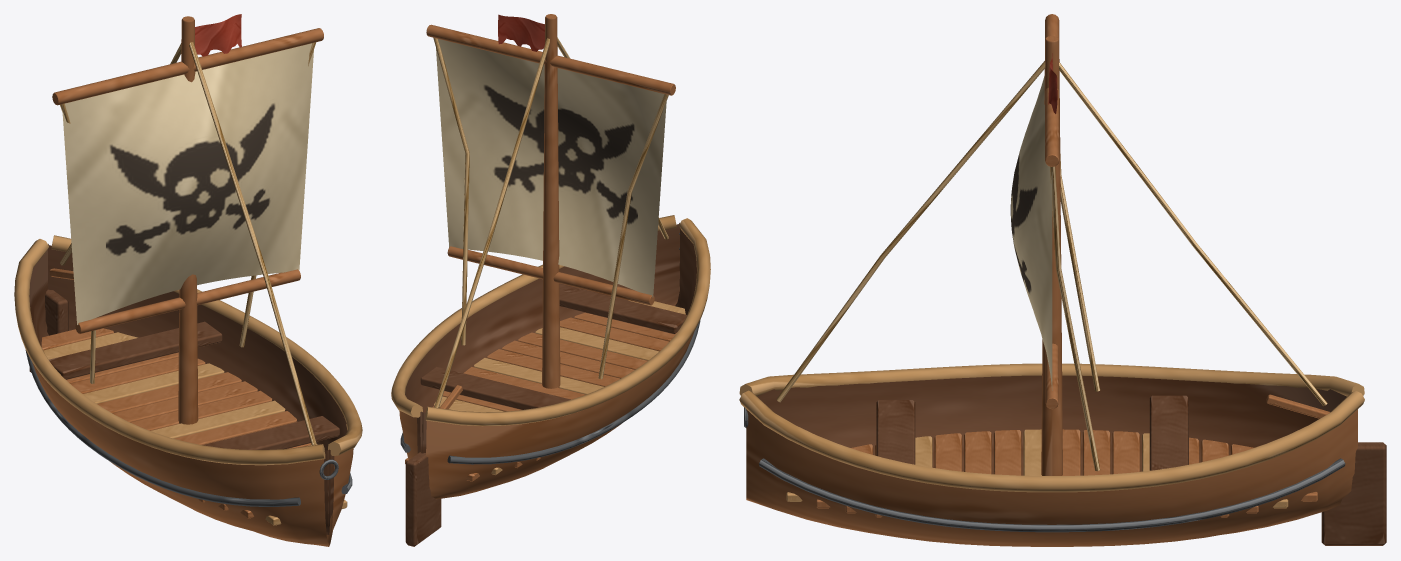
File: SM_SmallSailboat.glb
The picture shows the model from 3 angles, left to right: view 1: azimuth 30°, elevation 25°; view 2: azimuth 150°, elevation 25°; view 3: azimuth 270°, elevation 25°; orthographic projection. The views are drawn at different scales.
Visible parts, largest first — view 1: SM_SmallSailboat; view 2: SM_SmallSailboat; view 3: SM_SmallSailboat.
Boxes of the visible parts, <box> form: SM_SmallSailboat: <box>14,14,362,546</box>; SM_SmallSailboat: <box>391,14,710,546</box>; SM_SmallSailboat: <box>739,14,1386,546</box>.
Bounding box in the file's own units: 2.56 × 4.28 × 4.97.
1 material, 1 textured.
